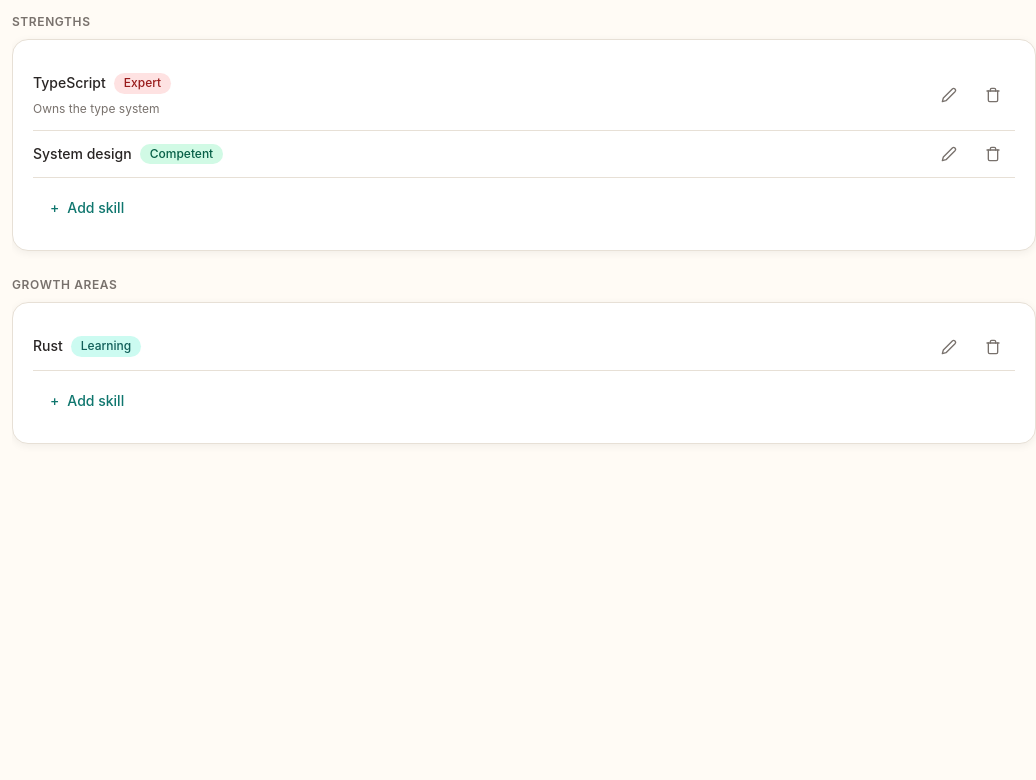
it: SkillsTab › asks for a skill name and saves nothing when it is empty
Click the button with aria-label "Add skill to Strengths": (87, 208) [33,186,141,230]
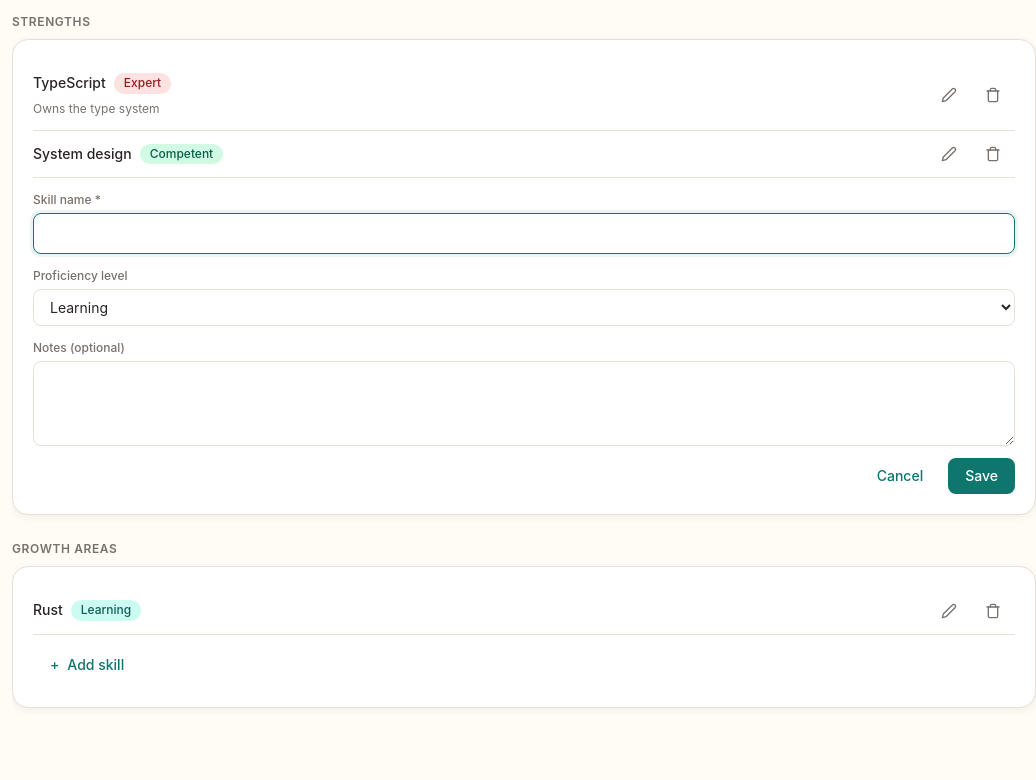
Click the button "Save": (982, 476) [948,458,1015,494]
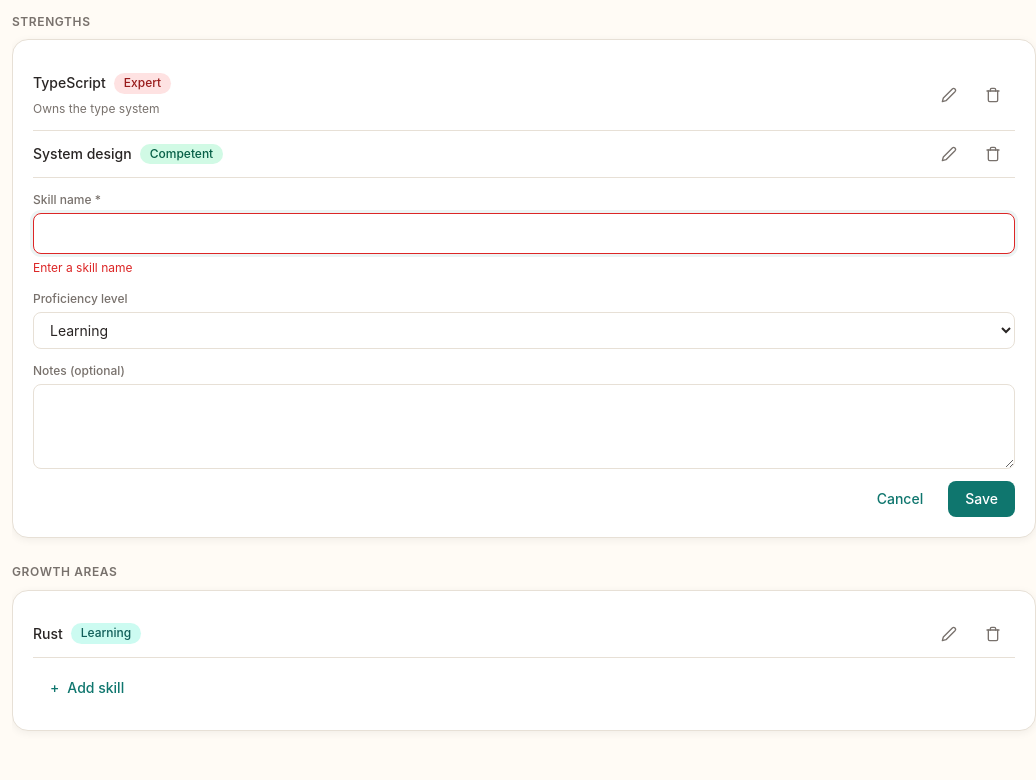
expect the text "Enter a skill name" is shown: met, box [33,260,132,275]
